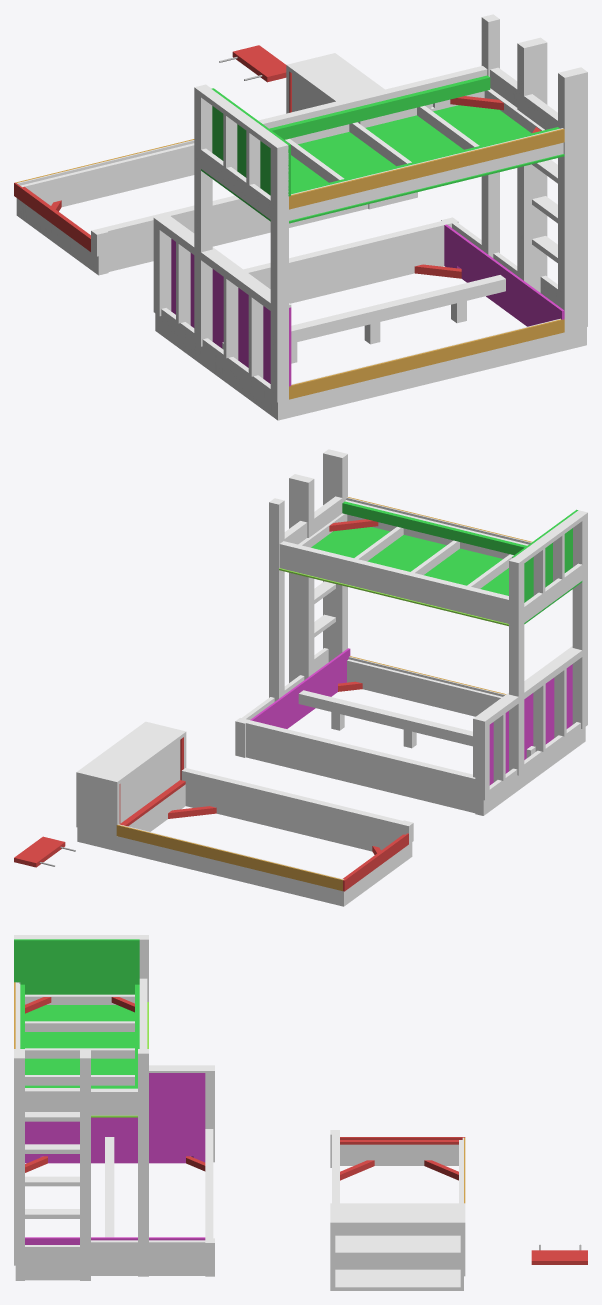
File: install.glb
3 views of the same model, one above another, from view 1: azimuth 30°, elevation 25°; view 2: azimuth 150°, elevation 25°; view 3: azimuth 270°, elevation 25° (orthographic). The views are drawn at different scales.
Parts seen in each view (by area): view 1: P-4.001, leg.039, queen-rail-side.039, queen-rail-side.042, queen-rail-side.038, leg.041, bed-rail-side.006, leg.043, leg.044, P-3.001, queen-rail-side.046, queen-rail-side.044 (+31 smaller); view 2: queen-rail-side.039, bed-rail-side.006, twin-rail-side.008, P-4.001, queen-rail-side.038, leg.043, queen-rail-side.042, leg.044, cabinet-top.007, leg.041, leg.040, cabinet-side.013 (+25 smaller); view 3: P-2.001, P-1.001, P-4.001, slot-rail.070, cabinet-back.014, cabinet-top.007, cabinet-bottom.007, leg.043, leg.039, cabinet-shelf.007, leg.040, bed-rail-head.006 (+22 smaller).
Boxes of the visible parts, x1,y1,x2,y2 form: P-4.001: (201, 105, 564, 223); leg.039: (558, 67, 587, 350); queen-rail-side.039: (243, 221, 446, 303); queen-rail-side.042: (16, 140, 194, 217); queen-rail-side.038: (288, 318, 563, 417); leg.041: (270, 140, 288, 420); bed-rail-side.006: (103, 195, 368, 271); leg.043: (517, 37, 547, 292); leg.044: (194, 84, 212, 365); P-3.001: (444, 224, 564, 326); queen-rail-side.046: (289, 128, 564, 209); queen-rail-side.044: (289, 319, 564, 399); queen-rail-side.039: (246, 720, 475, 813); bed-rail-side.006: (181, 768, 402, 851); twin-rail-side.008: (279, 541, 508, 623); P-4.001: (311, 521, 582, 624); queen-rail-side.038: (347, 656, 505, 716); leg.043: (289, 474, 314, 682); queen-rail-side.042: (118, 824, 346, 906); leg.044: (509, 557, 524, 790); cabinet-top.007: (76, 721, 186, 784); leg.041: (572, 510, 587, 744); leg.040: (269, 498, 284, 701); cabinet-side.013: (76, 774, 119, 849); P-2.001: (14, 939, 139, 994); P-1.001: (25, 1073, 205, 1146); P-4.001: (25, 1005, 134, 1088); slot-rail.070: (25, 994, 134, 1085); cabinet-back.014: (335, 1226, 460, 1269); cabinet-top.007: (330, 1203, 465, 1226); cabinet-bottom.007: (330, 1269, 463, 1290); leg.043: (80, 1049, 90, 1280); leg.039: (14, 1049, 24, 1280); cabinet-shelf.007: (335, 1235, 460, 1254); leg.040: (138, 1049, 148, 1276); bed-rail-head.006: (340, 1144, 458, 1165).
Size of the model in its own units: 2.55 by 1.99 by 4.65.
